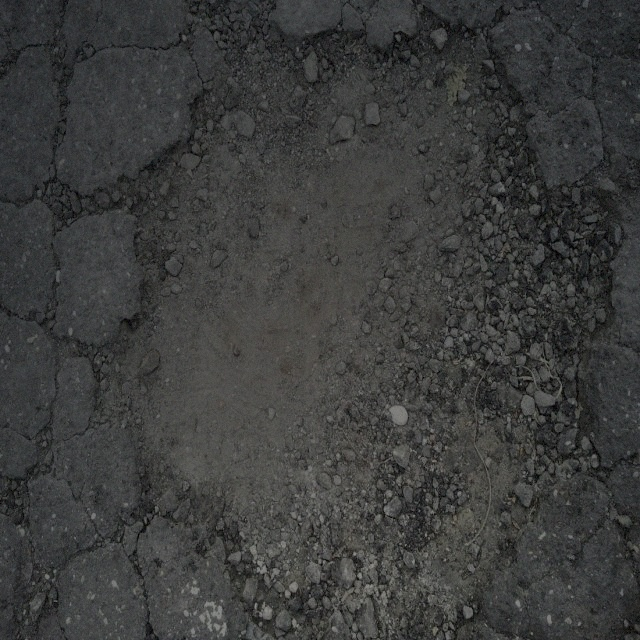pothole: (117, 21, 595, 581)
